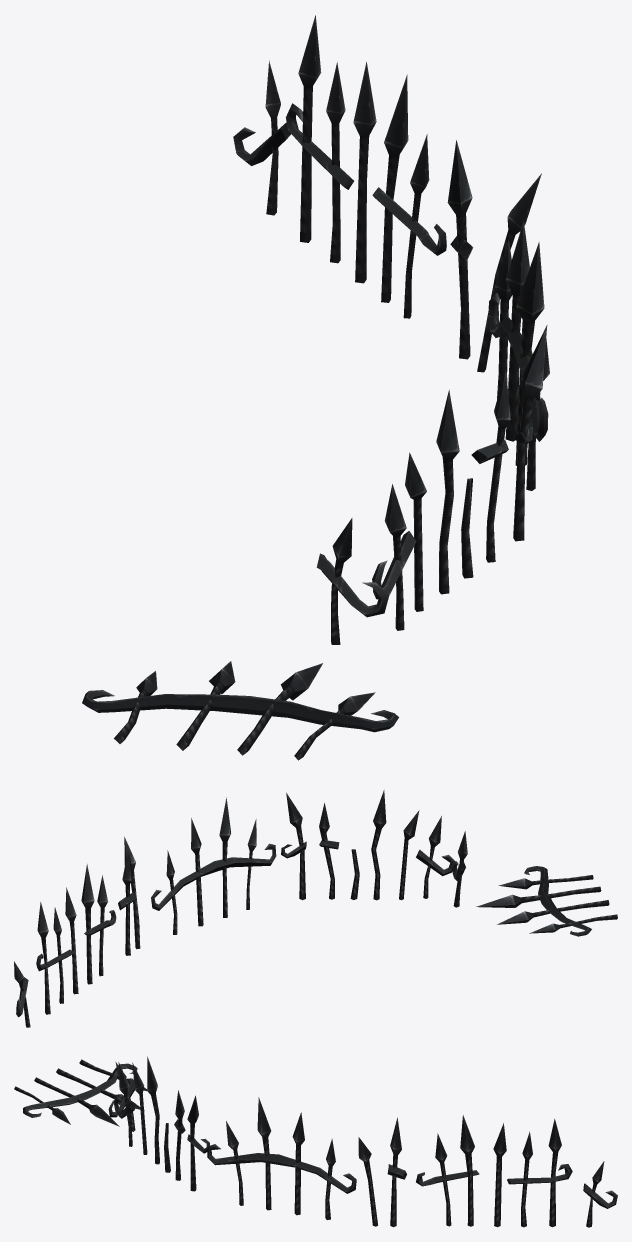
The model's file is mesh_raid3_fence2.FBX.
The picture shows the model from 3 angles, top to bottom: view 1: azimuth 30°, elevation 25°; view 2: azimuth 150°, elevation 25°; view 3: azimuth 270°, elevation 25°; orthographic projection. The views are drawn at different scales.
Parts seen in each view (by area): view 1: mesh_raid3_fence2; view 2: mesh_raid3_fence2; view 3: mesh_raid3_fence2.
Part boxes in pixels (box(x1,y1,x2,y2)): mesh_raid3_fence2: box(82, 15, 549, 760); mesh_raid3_fence2: box(14, 790, 617, 1027); mesh_raid3_fence2: box(14, 1056, 617, 1227).
Size of the model in its own units: 12.38 by 4.04 by 18.41.
